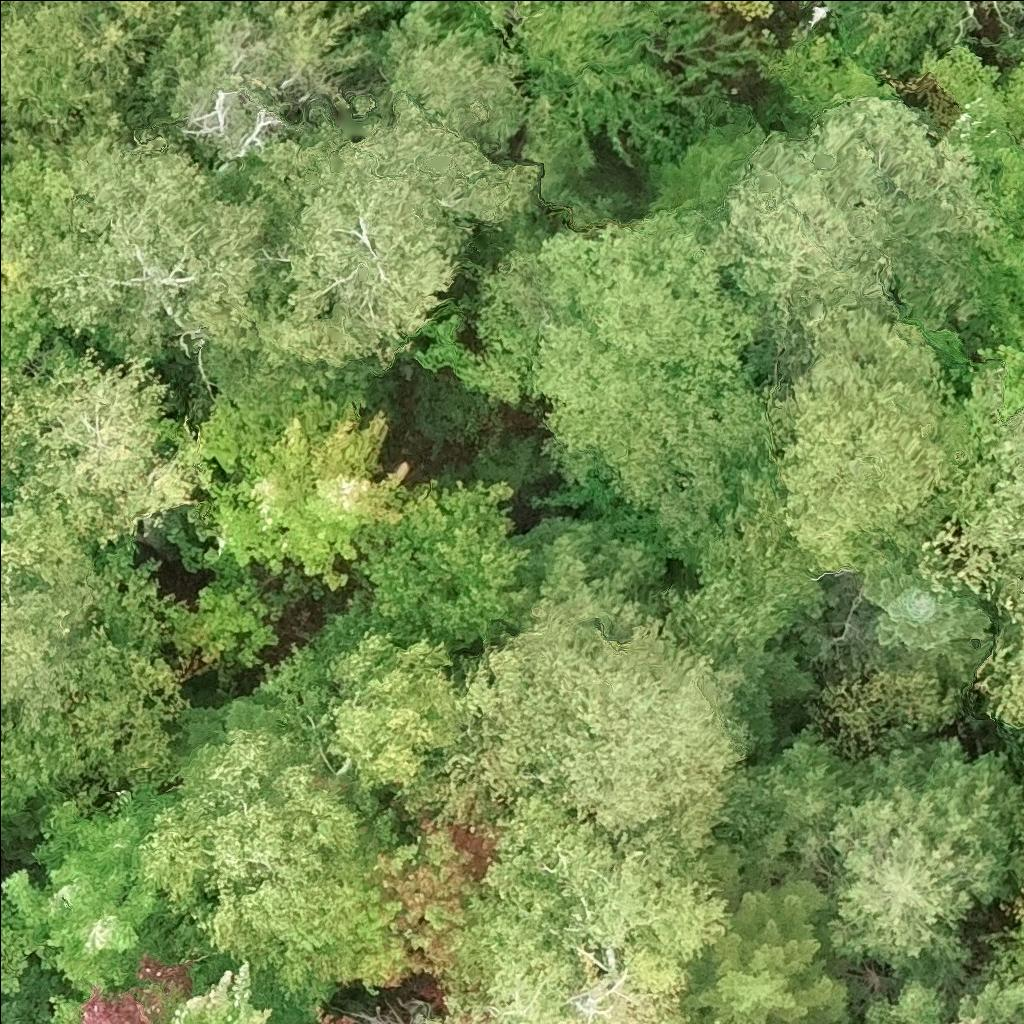crown: (444, 567, 747, 861), (710, 95, 1003, 386), (470, 224, 760, 504), (0, 108, 278, 373), (133, 728, 400, 1001), (444, 787, 733, 1023), (159, 390, 412, 628), (743, 309, 961, 567), (238, 145, 474, 367), (823, 737, 1023, 982), (506, 0, 760, 167), (346, 22, 543, 231), (0, 345, 194, 552), (0, 783, 183, 996), (658, 454, 822, 685), (349, 475, 539, 650), (917, 413, 1023, 726), (326, 806, 497, 987), (687, 841, 852, 1023), (0, 497, 115, 717), (322, 629, 463, 787), (49, 948, 272, 1023), (858, 547, 997, 664), (924, 46, 1023, 203), (0, 705, 89, 832), (965, 143, 1023, 337), (850, 971, 1023, 1023), (258, 639, 335, 750), (985, 882, 1023, 980), (978, 336, 1023, 415), (0, 999, 36, 1023), (112, 0, 153, 13), (319, 1010, 354, 1023), (709, 1022, 721, 1023), (789, 1022, 799, 1023)
